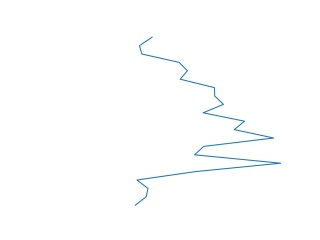floodSwamp: (126, 36, 291, 205)
